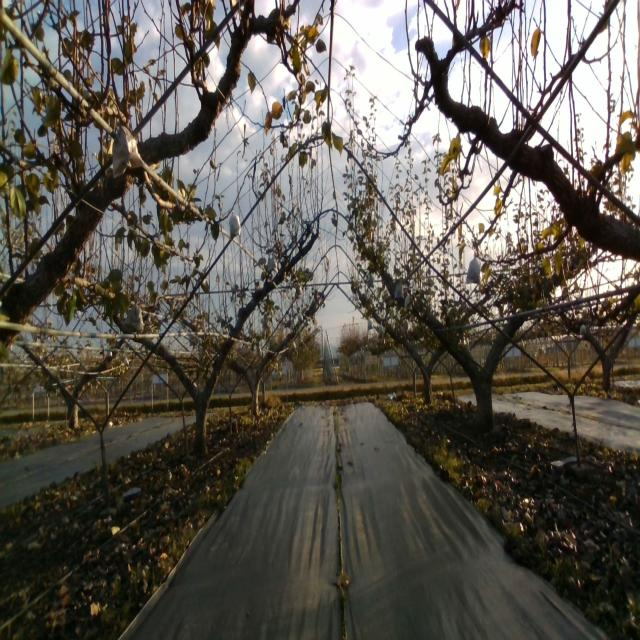pearbags: (112, 122, 144, 179), (466, 252, 480, 285), (229, 210, 241, 240), (266, 253, 278, 274), (394, 279, 405, 301)
